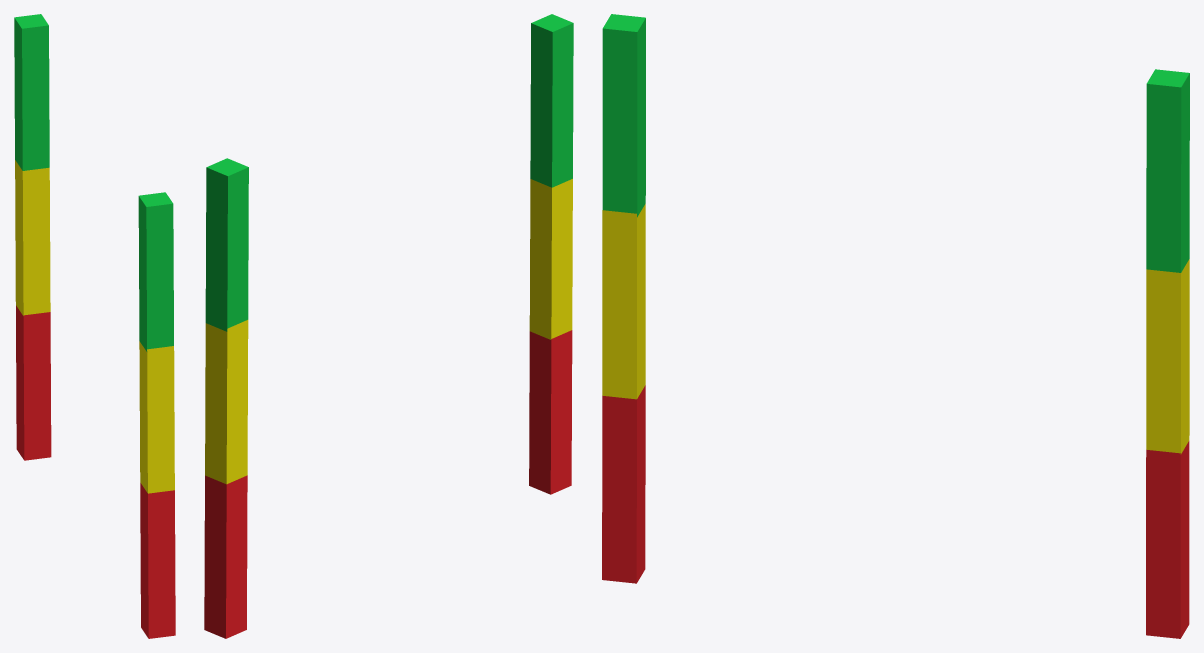
The model's file is gabv2.glb.
3 renders of one model, left to right at view 1: azimuth 30°, elevation 25°; view 2: azimuth 150°, elevation 25°; view 3: azimuth 270°, elevation 25°, orthographic. The views are drawn at different scales.
Visible parts, largest first — view 1: node_id23, node_id14, node_id8, node_id20, node_id17, node_id11; view 2: node_id14, node_id23, node_id8, node_id17, node_id20, node_id11; view 3: node_id23, node_id14, node_id17, node_id11, node_id8, node_id20.
Boxes of the visible parts, x1=… form: node_id23: x1=14, y1=14, x2=49, y2=170; node_id14: x1=138, y1=192, x2=173, y2=351; node_id8: x1=140, y1=483, x2=175, y2=638; node_id20: x1=15, y1=160, x2=50, y2=315; node_id17: x1=16, y1=305, x2=51, y2=460; node_id11: x1=139, y1=341, x2=174, y2=493; node_id14: x1=530, y1=14, x2=573, y2=187; node_id23: x1=205, y1=158, x2=248, y2=331; node_id8: x1=529, y1=330, x2=572, y2=494; node_id17: x1=204, y1=475, x2=247, y2=638; node_id20: x1=205, y1=320, x2=248, y2=484; node_id11: x1=529, y1=179, x2=572, y2=339; node_id23: x1=1146, y1=69, x2=1189, y2=272; node_id14: x1=602, y1=14, x2=645, y2=217; node_id17: x1=1146, y1=441, x2=1189, y2=638; node_id11: x1=602, y1=204, x2=645, y2=399; node_id8: x1=602, y1=385, x2=645, y2=583; node_id20: x1=1146, y1=259, x2=1189, y2=454.
Size of the model in its own units: 0.0387 by 0.1323 by 0.1281.
6 materials, 6 textured.
